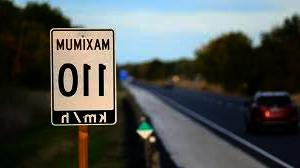speed limit sign: (52, 30, 116, 125)
